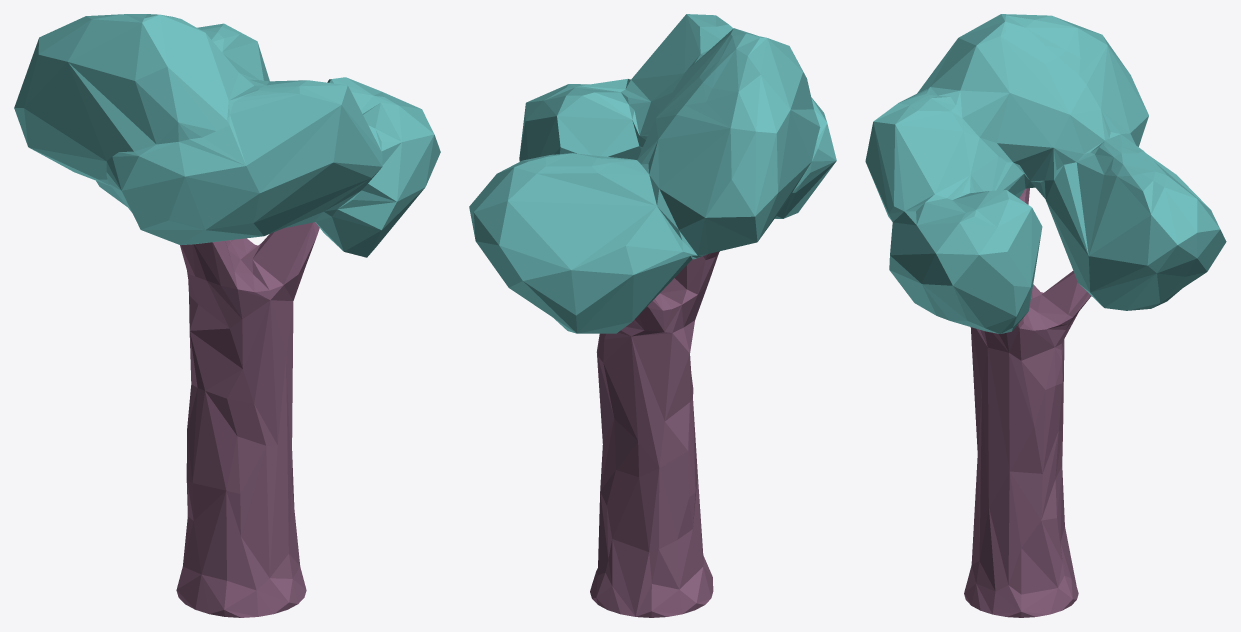
Rendered from strom 1 UV TEXTURE v06.fbx.
3 renders of one model, left to right at view 1: azimuth 30°, elevation 25°; view 2: azimuth 150°, elevation 25°; view 3: azimuth 270°, elevation 25°, orthographic. The views are drawn at different scales.
Parts seen in each view (by area): view 1: pCylinder3; view 2: pCylinder3; view 3: pCylinder3.
Part boxes in pixels (bbox=[...]): pCylinder3: bbox=[14, 14, 440, 617]; pCylinder3: bbox=[469, 14, 836, 617]; pCylinder3: bbox=[865, 14, 1226, 617].
Size of the model in its own units: 0.7747 by 1.34 by 0.8176.
